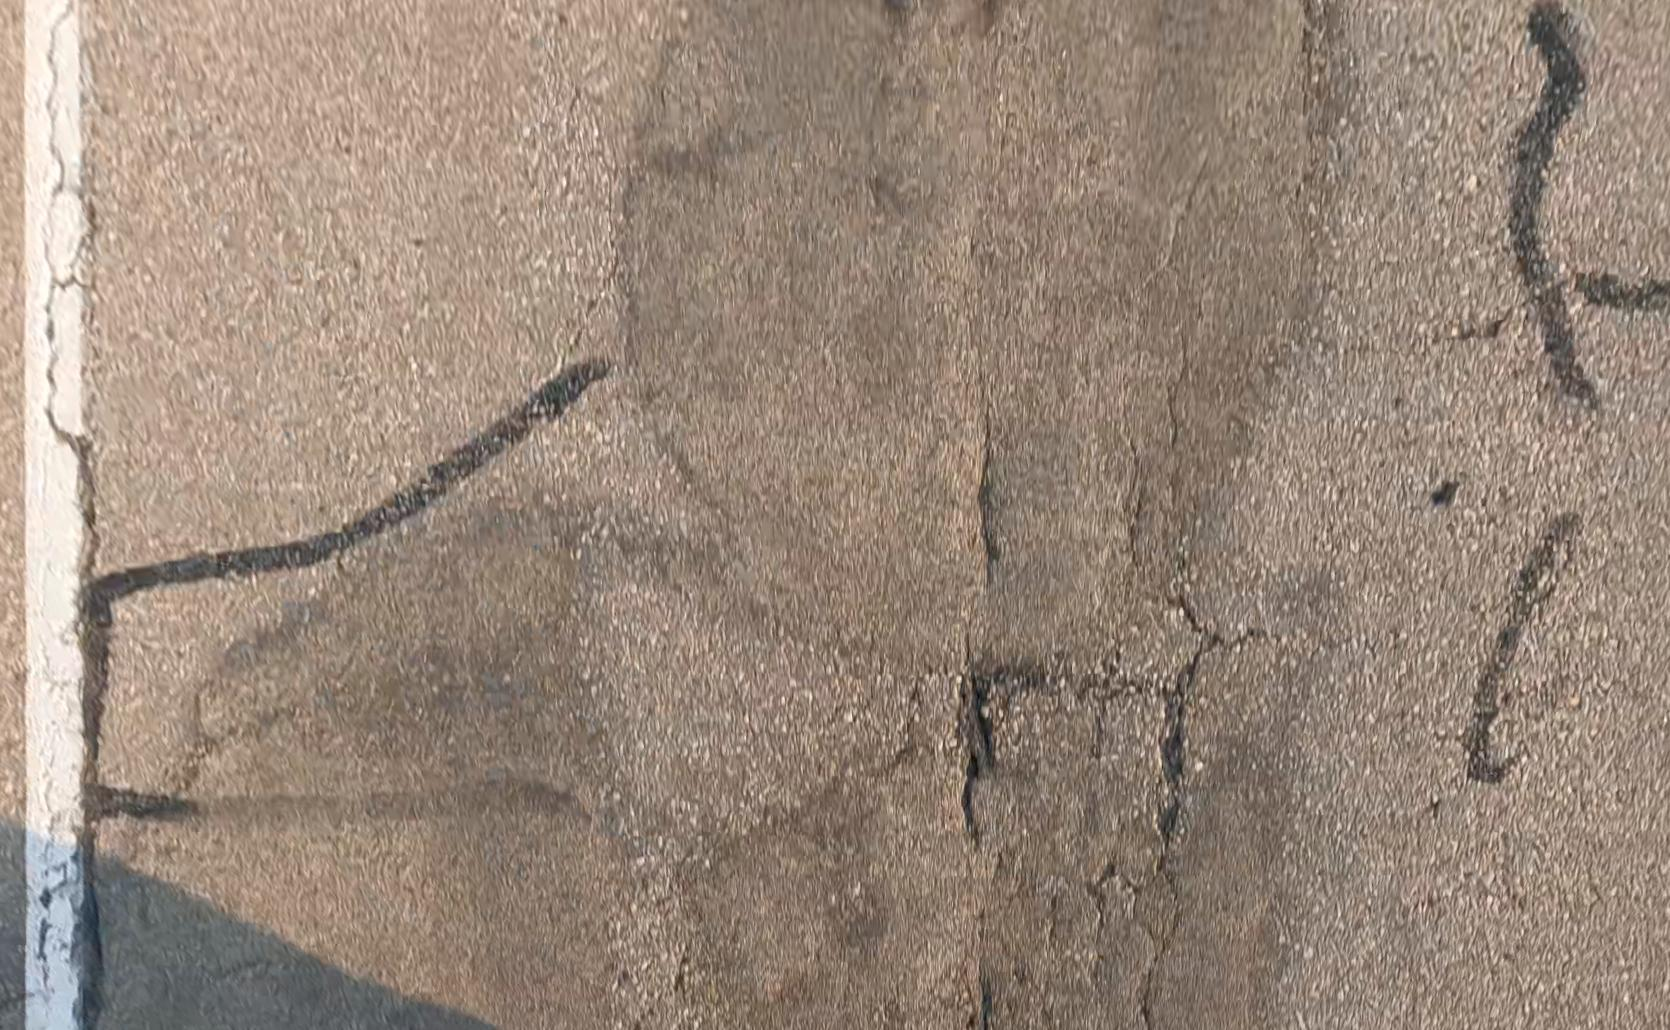pothole: (1150, 653, 1194, 845), (953, 670, 995, 782)
pothole_patch_poor: (631, 1, 1349, 673), (99, 495, 620, 1022), (629, 637, 1304, 1029)
